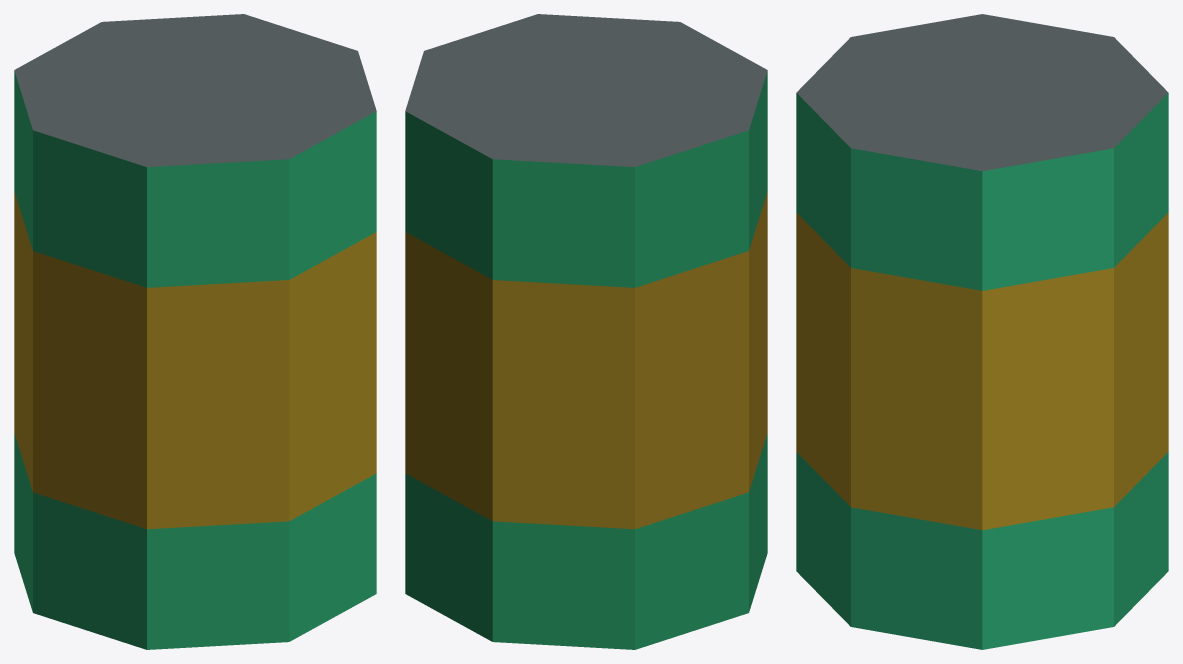
Rendered from barrel_01.fbx.
The picture shows the model from 3 angles, left to right: view 1: azimuth 30°, elevation 25°; view 2: azimuth 150°, elevation 25°; view 3: azimuth 270°, elevation 25°; orthographic projection.
Visible parts, largest first — view 1: barrel_01; view 2: barrel_01; view 3: barrel_01.
Boxes of the visible parts, x1=… form: barrel_01: x1=14, y1=14, x2=376, y2=649; barrel_01: x1=405, y1=14, x2=767, y2=649; barrel_01: x1=796, y1=14, x2=1168, y2=649.
Size of the model in its own units: 1.42 by 2.02 by 1.42.
Materials: 1 (1 with a texture image).
